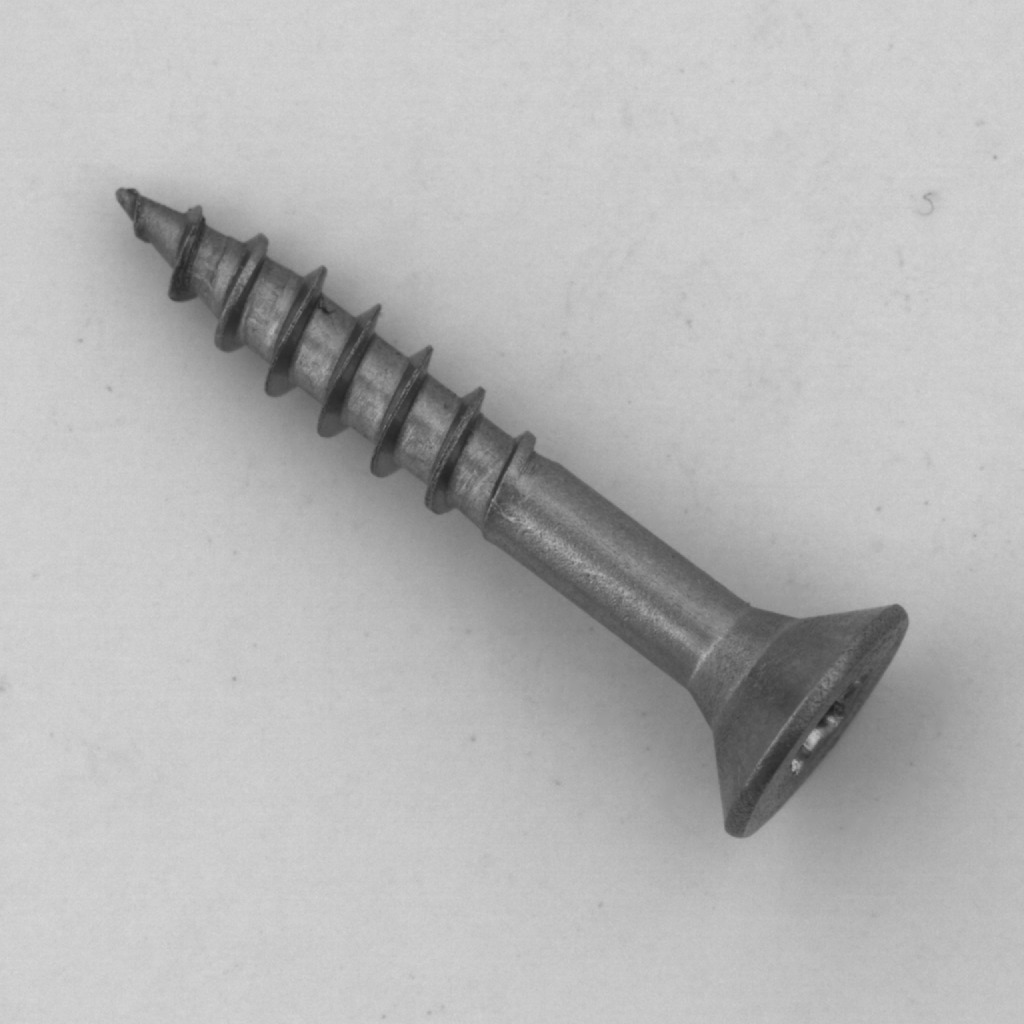good: (94, 160, 930, 854)
